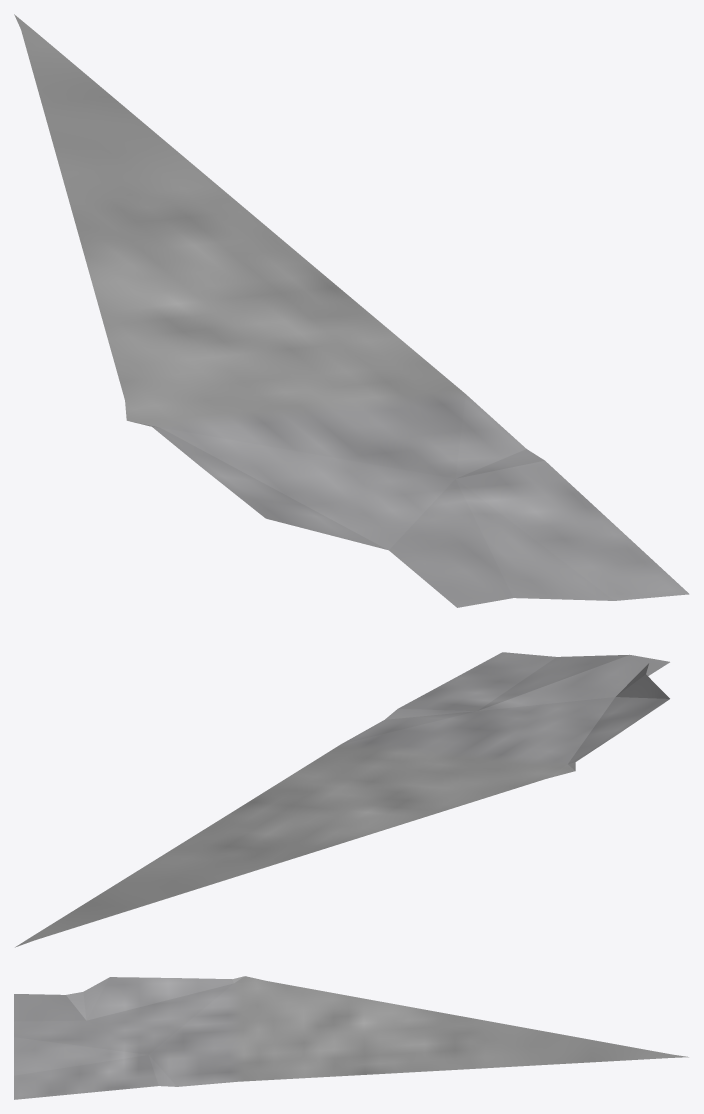
3 renders of one model, top to bottom at view 1: azimuth 30°, elevation 25°; view 2: azimuth 150°, elevation 25°; view 3: azimuth 270°, elevation 25°, orthographic. The views are drawn at different scales.
Size of the model in its own units: 0.1643 by 0.0404 by 0.579.
Materials: 1 (1 with a texture image).
